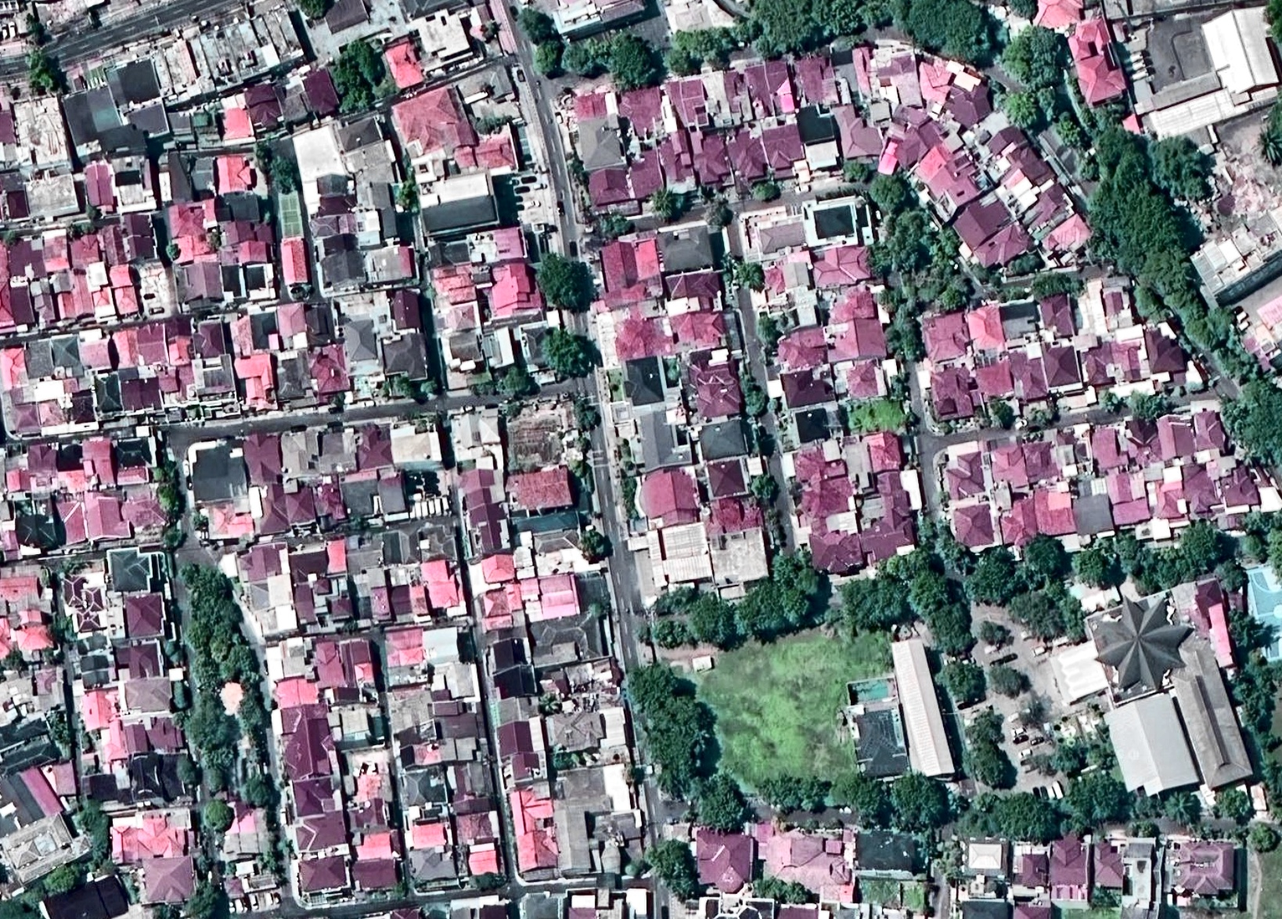building: (582, 225, 740, 371), (142, 0, 314, 112), (805, 465, 942, 602), (1079, 579, 1209, 708), (1158, 629, 1256, 792), (967, 119, 1083, 245), (532, 642, 632, 770), (291, 111, 405, 221), (1181, 191, 1282, 308), (1102, 689, 1201, 804), (787, 443, 869, 581), (889, 635, 956, 783), (941, 185, 1037, 282), (387, 683, 487, 770), (837, 674, 914, 786), (1136, 10, 1221, 108), (1142, 78, 1266, 145), (1199, 3, 1282, 100), (387, 81, 478, 169), (0, 805, 92, 891), (758, 826, 858, 903), (907, 132, 993, 221), (700, 487, 773, 590), (384, 626, 479, 704), (299, 0, 410, 65), (427, 259, 487, 374), (1060, 13, 1131, 109), (286, 121, 357, 216), (549, 761, 634, 839), (413, 169, 503, 242), (1171, 576, 1237, 675), (404, 0, 488, 75), (455, 465, 516, 561), (873, 101, 949, 178), (514, 508, 591, 583), (994, 482, 1080, 549), (524, 607, 610, 673), (56, 80, 129, 157), (239, 547, 299, 639), (504, 400, 577, 473), (0, 754, 66, 833), (758, 255, 821, 336), (11, 92, 74, 173), (683, 344, 746, 424), (1074, 273, 1142, 346), (1232, 271, 1282, 370), (508, 784, 561, 877), (364, 516, 458, 568), (107, 809, 191, 867), (645, 521, 714, 589), (187, 440, 249, 514), (1045, 639, 1111, 707), (654, 217, 727, 278), (278, 703, 334, 782), (690, 828, 756, 895), (18, 164, 86, 229), (0, 662, 69, 726), (40, 872, 133, 919), (634, 465, 701, 530), (865, 42, 923, 112), (493, 717, 550, 788), (59, 489, 131, 545), (548, 0, 650, 39), (793, 101, 846, 176), (481, 257, 543, 321), (707, 527, 772, 588), (448, 406, 505, 474), (482, 634, 538, 703), (852, 830, 927, 881), (802, 196, 875, 248), (1015, 181, 1078, 241), (598, 237, 663, 295), (104, 148, 158, 217), (314, 639, 375, 700), (506, 465, 576, 518), (832, 99, 886, 166), (0, 715, 63, 772), (571, 111, 626, 175), (519, 570, 583, 624), (632, 407, 684, 473), (104, 54, 164, 111), (610, 309, 673, 363), (808, 241, 874, 292), (164, 199, 215, 265), (551, 797, 593, 877), (313, 233, 368, 294), (743, 58, 797, 120), (722, 125, 773, 190), (1174, 841, 1234, 896), (418, 555, 468, 621), (758, 119, 811, 181), (128, 752, 192, 803), (654, 128, 702, 196), (1038, 210, 1097, 265), (920, 310, 974, 370), (384, 686, 439, 744), (215, 807, 273, 862), (687, 127, 735, 193), (943, 79, 1001, 133), (790, 51, 841, 112), (662, 268, 725, 317), (172, 255, 228, 310), (60, 571, 108, 635), (590, 811, 641, 871), (233, 350, 282, 412), (474, 578, 529, 633), (105, 547, 168, 595), (339, 314, 384, 381), (926, 365, 977, 424), (226, 859, 282, 912), (1240, 274, 1282, 344), (1049, 835, 1089, 908), (545, 708, 607, 755), (0, 241, 32, 331), (773, 324, 830, 374), (291, 810, 349, 859), (380, 34, 428, 93), (948, 499, 999, 554), (1176, 460, 1223, 519), (380, 331, 430, 386), (664, 75, 712, 132), (306, 342, 351, 402), (1044, 426, 1092, 482), (713, 65, 757, 126), (469, 127, 520, 179), (511, 507, 582, 544), (294, 854, 351, 900), (669, 308, 728, 352), (916, 55, 960, 114), (780, 365, 836, 411), (362, 242, 418, 288), (465, 225, 526, 267), (262, 635, 315, 683), (142, 857, 195, 905), (1215, 464, 1263, 517), (241, 80, 286, 136), (298, 65, 343, 121), (1187, 406, 1231, 463), (408, 845, 460, 893), (1040, 341, 1085, 396), (623, 148, 668, 203), (241, 431, 284, 488), (118, 489, 168, 538), (1121, 838, 1155, 910), (122, 97, 173, 145), (338, 471, 385, 523), (998, 296, 1045, 348), (452, 795, 497, 849), (696, 418, 750, 463), (585, 163, 633, 213), (1008, 348, 1050, 405), (401, 765, 447, 817), (289, 774, 341, 820), (831, 319, 887, 361), (311, 574, 355, 627), (810, 532, 864, 575), (0, 386, 42, 441), (943, 449, 986, 502), (965, 302, 1007, 356), (535, 572, 582, 620), (599, 238, 640, 293), (204, 501, 256, 544), (987, 441, 1030, 493), (191, 354, 237, 402), (118, 676, 173, 716), (754, 217, 809, 257), (618, 87, 662, 137), (390, 422, 441, 465), (279, 429, 322, 480), (12, 510, 63, 553), (75, 634, 114, 690), (1086, 423, 1128, 475), (1145, 327, 1186, 380), (1071, 491, 1116, 539), (273, 349, 313, 403), (623, 356, 665, 407), (1155, 413, 1197, 464), (1037, 291, 1079, 342), (442, 327, 486, 375), (445, 759, 494, 802), (763, 253, 813, 295), (430, 263, 477, 307), (42, 756, 85, 804), (82, 158, 118, 215), (811, 201, 859, 243), (238, 542, 287, 583), (144, 712, 187, 758), (973, 356, 1016, 402), (316, 428, 358, 475), (1019, 437, 1060, 485), (1012, 844, 1049, 897), (346, 796, 393, 837), (271, 673, 321, 711), (351, 857, 402, 894), (865, 429, 906, 475), (121, 212, 157, 264), (214, 152, 257, 195), (79, 687, 121, 731), (226, 222, 271, 263), (216, 188, 267, 224), (96, 123, 147, 159), (830, 285, 878, 323), (320, 0, 372, 35), (75, 648, 118, 690), (706, 457, 748, 500), (0, 570, 44, 611), (114, 641, 162, 678), (844, 359, 886, 401), (681, 215, 721, 259), (7, 236, 46, 281), (81, 437, 116, 487), (49, 333, 85, 381), (494, 719, 535, 761), (124, 594, 163, 638), (278, 235, 311, 287), (275, 83, 314, 127), (789, 444, 830, 485), (375, 470, 409, 519), (460, 557, 500, 598), (385, 627, 425, 668), (593, 310, 620, 370), (164, 150, 194, 204), (57, 273, 93, 318), (259, 484, 290, 536), (357, 424, 392, 470), (134, 322, 169, 368), (119, 376, 162, 413), (1093, 841, 1124, 892), (1080, 344, 1115, 389), (443, 894, 506, 919), (389, 287, 423, 333), (95, 222, 129, 268), (422, 627, 462, 666), (191, 318, 228, 360), (28, 278, 59, 328), (283, 486, 318, 530), (345, 536, 384, 575), (288, 547, 330, 583), (13, 620, 55, 656), (1034, 0, 1084, 30), (92, 372, 124, 418), (1110, 495, 1152, 530), (82, 770, 121, 807), (66, 232, 103, 271), (337, 705, 372, 746), (98, 717, 129, 763), (436, 711, 480, 743), (794, 407, 832, 444), (218, 104, 254, 143), (967, 841, 1008, 875), (351, 562, 390, 597), (40, 229, 71, 273), (23, 339, 55, 381), (479, 551, 517, 586), (78, 336, 113, 374), (63, 388, 97, 427), (354, 762, 387, 802), (113, 436, 153, 469), (571, 89, 611, 122), (275, 301, 308, 341), (882, 514, 914, 555), (1112, 341, 1143, 383), (291, 579, 317, 628), (465, 842, 500, 878), (0, 346, 28, 391), (409, 821, 449, 852), (250, 310, 280, 350), (518, 893, 564, 919), (494, 325, 522, 367), (356, 830, 395, 860), (1156, 480, 1185, 520), (960, 897, 1012, 919), (0, 185, 30, 223), (111, 282, 141, 318), (113, 327, 139, 368), (852, 46, 872, 99), (655, 93, 680, 135), (189, 157, 216, 195), (715, 899, 765, 919), (1105, 471, 1135, 504), (367, 585, 392, 624), (540, 669, 571, 700), (27, 444, 56, 477), (244, 263, 273, 296), (123, 721, 150, 756), (375, 205, 401, 241), (1127, 416, 1157, 447), (388, 585, 413, 622), (219, 262, 243, 299), (1013, 902, 1060, 919), (626, 888, 651, 919), (431, 697, 466, 719), (237, 240, 269, 264), (156, 367, 182, 396), (0, 101, 17, 144), (1258, 483, 1282, 513), (5, 468, 32, 493), (57, 469, 85, 493), (108, 263, 133, 288), (0, 616, 13, 660), (455, 737, 477, 761), (478, 904, 509, 919), (389, 908, 424, 919), (571, 847, 585, 871), (1258, 268, 1279, 284), (422, 908, 449, 919)
tree: (1066, 160, 1189, 284), (1138, 242, 1241, 355), (637, 691, 722, 802), (1003, 567, 1100, 664), (899, 0, 1010, 71), (1138, 125, 1223, 216), (736, 0, 863, 58), (991, 18, 1073, 96), (1045, 770, 1133, 842), (525, 242, 601, 324), (173, 688, 248, 765), (675, 770, 751, 843), (1220, 378, 1282, 467), (1085, 120, 1157, 191), (1230, 655, 1282, 753), (589, 25, 662, 93), (528, 325, 606, 387), (677, 588, 748, 656), (882, 768, 954, 833), (866, 209, 939, 272), (617, 655, 684, 723), (640, 835, 704, 906), (824, 572, 906, 627), (957, 710, 1011, 793), (831, 768, 897, 832), (728, 581, 790, 647), (976, 794, 1052, 846), (895, 563, 955, 623), (1063, 540, 1123, 597), (177, 565, 234, 623), (1014, 532, 1073, 588), (1113, 530, 1158, 599), (1240, 513, 1282, 586), (1143, 539, 1198, 594), (969, 548, 1021, 606), (665, 27, 729, 73), (1122, 270, 1171, 329), (210, 636, 262, 691), (748, 873, 820, 912), (1175, 519, 1227, 573), (1211, 335, 1262, 390), (1206, 779, 1259, 831), (996, 84, 1047, 138), (754, 773, 824, 812), (911, 253, 959, 309), (879, 310, 927, 366), (1156, 786, 1207, 837), (343, 35, 390, 89), (554, 37, 602, 87), (871, 275, 921, 323), (927, 602, 971, 656), (861, 171, 915, 215), (175, 609, 226, 654), (923, 518, 968, 569), (769, 580, 816, 628), (933, 660, 979, 709), (491, 363, 539, 409), (507, 3, 557, 47), (81, 799, 111, 870), (524, 32, 569, 79), (177, 877, 227, 919), (179, 649, 225, 694), (321, 48, 364, 96), (876, 549, 934, 584), (39, 858, 87, 900), (1080, 99, 1129, 139), (1125, 389, 1176, 427), (194, 794, 238, 838), (931, 271, 976, 314), (643, 181, 686, 225), (636, 620, 695, 652), (232, 673, 264, 731), (559, 393, 601, 437), (1230, 530, 1274, 572), (573, 525, 615, 568), (1222, 613, 1266, 654), (1048, 110, 1087, 154), (234, 773, 274, 814), (199, 621, 236, 665), (984, 664, 1030, 699), (264, 152, 298, 198), (332, 83, 374, 119), (1256, 751, 1282, 809), (21, 49, 56, 92), (935, 847, 970, 889), (860, 1, 906, 32), (649, 587, 698, 616), (470, 105, 510, 140), (1256, 106, 1280, 164), (45, 709, 77, 752), (743, 471, 780, 507), (1046, 743, 1083, 779), (1027, 273, 1082, 297), (788, 567, 824, 603), (767, 552, 804, 586), (151, 480, 184, 518), (973, 616, 1012, 648), (737, 374, 766, 417), (965, 261, 1005, 292), (732, 260, 768, 293), (154, 521, 188, 555), (1244, 825, 1282, 855), (933, 227, 966, 261), (698, 200, 731, 233), (1123, 814, 1156, 847), (986, 399, 1019, 432), (387, 373, 422, 404), (1004, 251, 1042, 279), (393, 176, 420, 215), (913, 824, 940, 863), (617, 476, 639, 522), (610, 436, 637, 473), (210, 596, 242, 627), (740, 428, 770, 461), (597, 213, 634, 239), (1032, 88, 1062, 120), (198, 747, 233, 774), (174, 559, 204, 589), (545, 751, 576, 780), (754, 315, 780, 349), (18, 12, 48, 41), (239, 729, 263, 765), (0, 898, 41, 919), (912, 516, 940, 546), (994, 281, 1027, 306), (88, 858, 118, 885), (249, 141, 274, 173), (57, 554, 87, 579), (55, 614, 79, 645), (18, 885, 46, 911), (468, 873, 502, 894), (37, 643, 64, 669), (536, 691, 563, 716), (498, 398, 523, 424), (1091, 890, 1125, 909), (749, 182, 778, 204), (956, 805, 975, 838), (65, 809, 90, 834), (1096, 389, 1121, 414), (120, 874, 141, 903), (1066, 76, 1085, 108), (296, 1, 331, 18), (842, 160, 870, 181), (1007, 1, 1035, 22), (188, 853, 212, 877), (568, 432, 593, 455), (887, 372, 907, 400), (203, 772, 226, 796), (566, 459, 592, 480), (186, 509, 208, 533), (661, 357, 682, 382), (273, 837, 295, 860), (176, 761, 197, 785), (373, 381, 394, 405), (149, 903, 180, 919), (254, 849, 276, 869), (418, 378, 439, 397), (75, 219, 94, 238), (566, 157, 585, 176), (962, 576, 976, 601), (148, 467, 167, 485), (623, 862, 644, 878), (161, 458, 175, 481), (82, 204, 100, 221), (1, 229, 19, 246), (763, 397, 780, 415), (38, 567, 53, 587), (771, 815, 791, 830), (341, 619, 358, 636), (163, 243, 179, 261), (208, 229, 221, 250), (220, 862, 237, 878), (800, 818, 816, 831), (824, 819, 841, 831), (191, 312, 205, 326), (486, 20, 498, 35)
